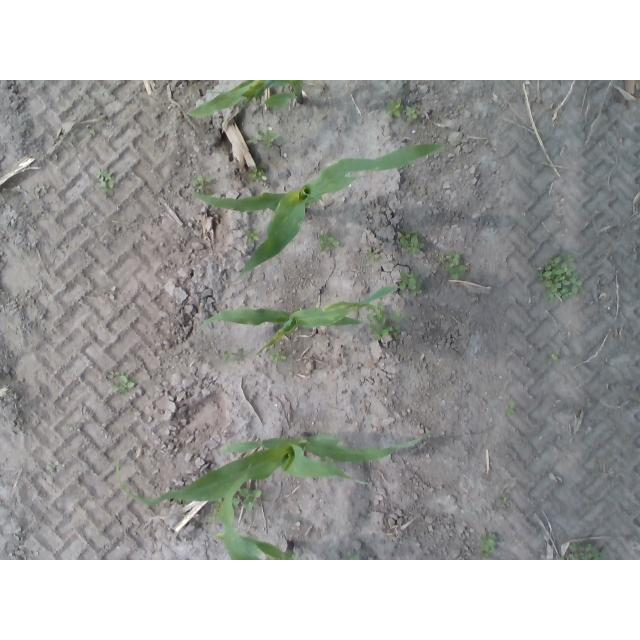Maize: (195, 142, 456, 275), (115, 433, 431, 506), (196, 286, 401, 359), (213, 465, 297, 560), (188, 80, 304, 118)
Weeds: (537, 253, 583, 303), (366, 302, 402, 341), (558, 540, 606, 560), (439, 248, 468, 280), (396, 229, 427, 256), (232, 486, 261, 510), (398, 269, 423, 296), (94, 168, 115, 196), (246, 130, 278, 148), (112, 372, 136, 396), (480, 533, 498, 560), (317, 231, 339, 253), (190, 175, 215, 194), (223, 349, 249, 364), (248, 162, 269, 180), (385, 97, 403, 117), (208, 496, 221, 523), (404, 105, 421, 124), (268, 351, 288, 364), (246, 228, 260, 244), (498, 495, 513, 507), (365, 248, 380, 260), (505, 404, 516, 416), (341, 553, 359, 560), (550, 353, 562, 362), (108, 370, 120, 379), (88, 130, 97, 139), (46, 464, 56, 472)
